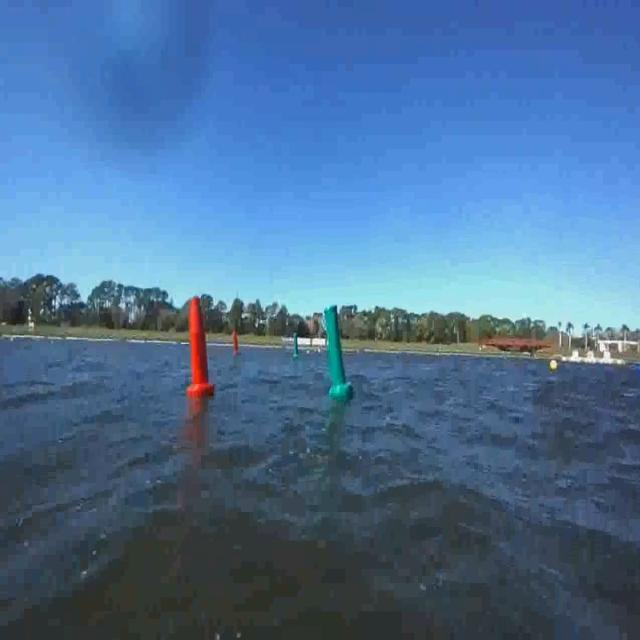green-column-buoy: (319, 302, 353, 399), (292, 334, 300, 361)
red-column-buoy: (187, 296, 216, 399), (233, 328, 242, 355)
yellow-buoy: (550, 357, 559, 373)
